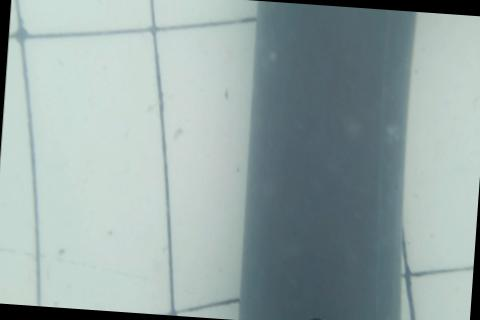kebocoran: (307, 317, 338, 320)
